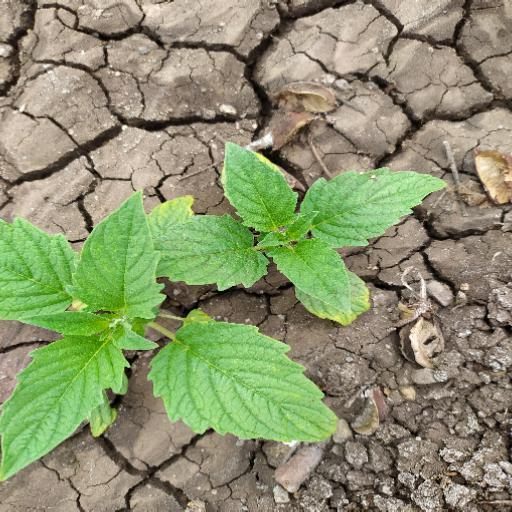crop: (1, 135, 422, 490)
